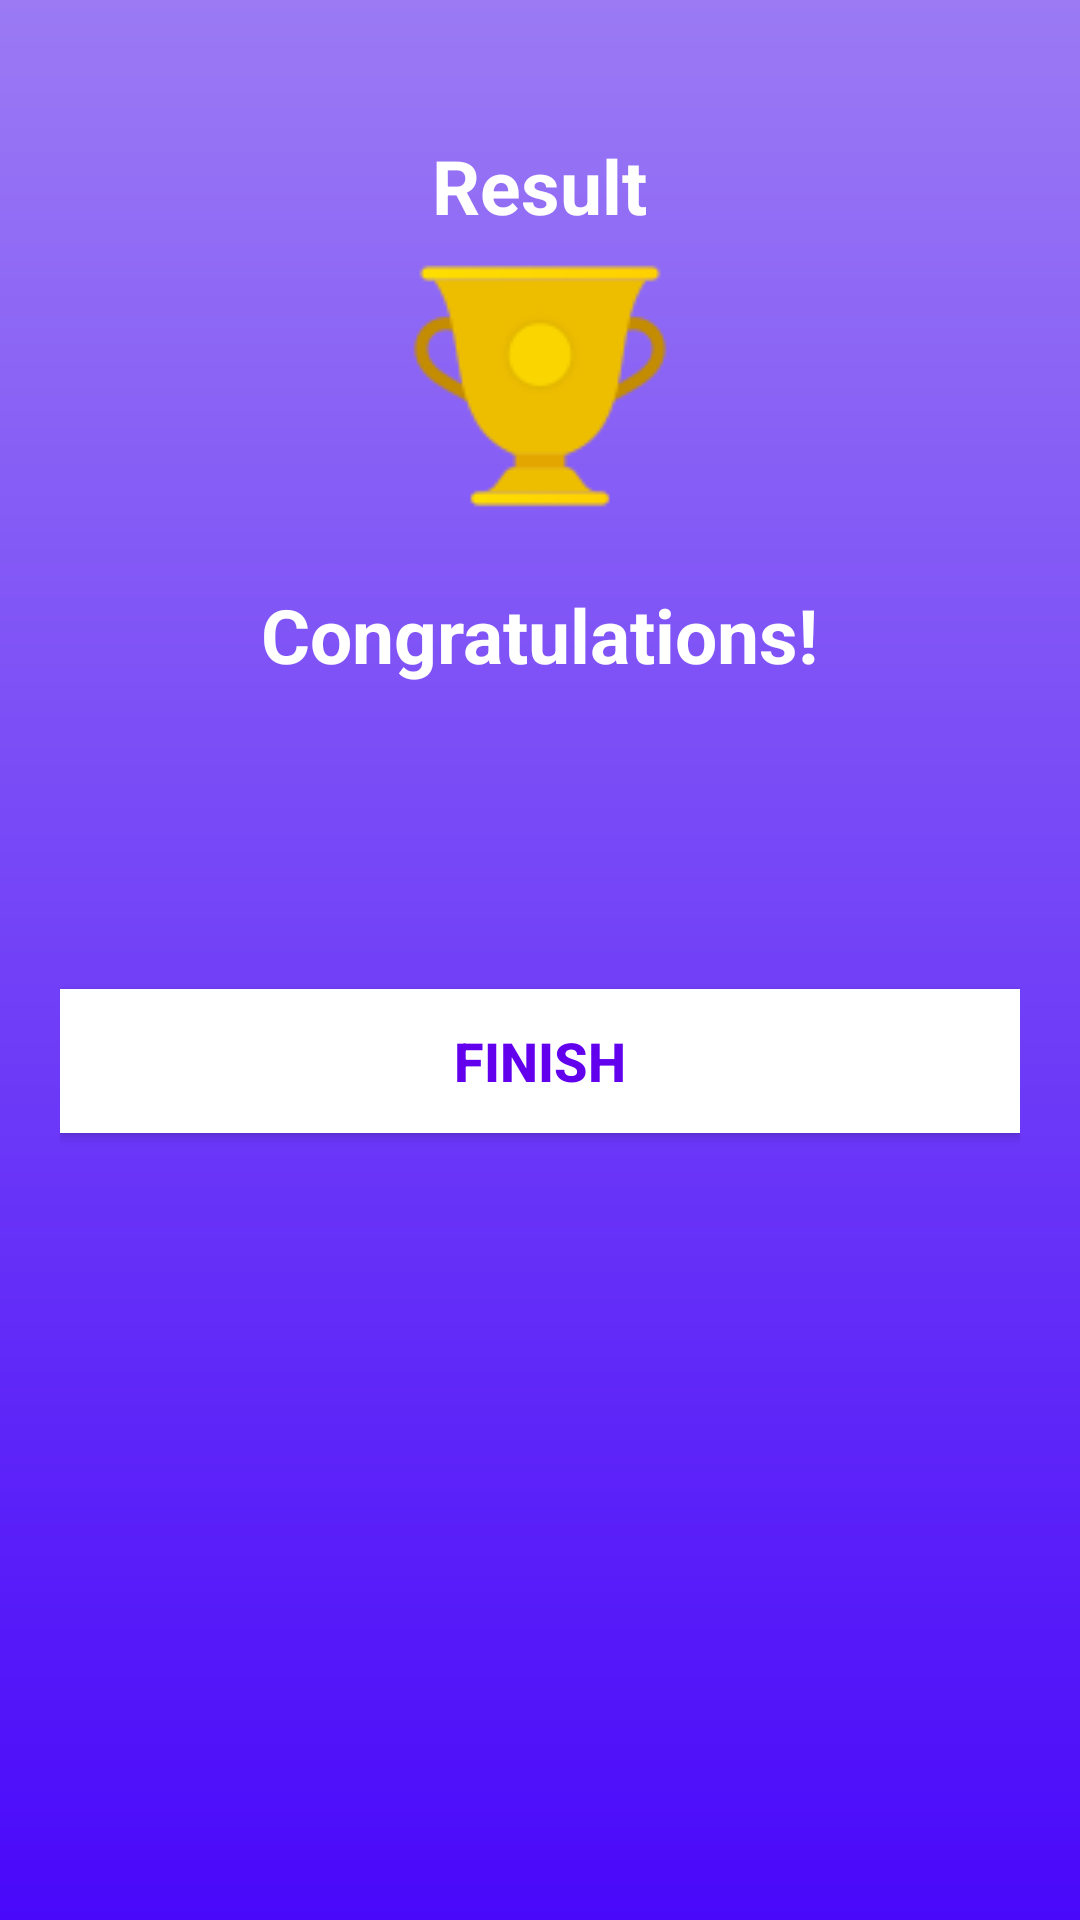

Named icons in this screenshot (1080px×1920px) and their bounding boxes, (x1, y1, x2, y2):
trophy: (413, 265, 667, 507)
